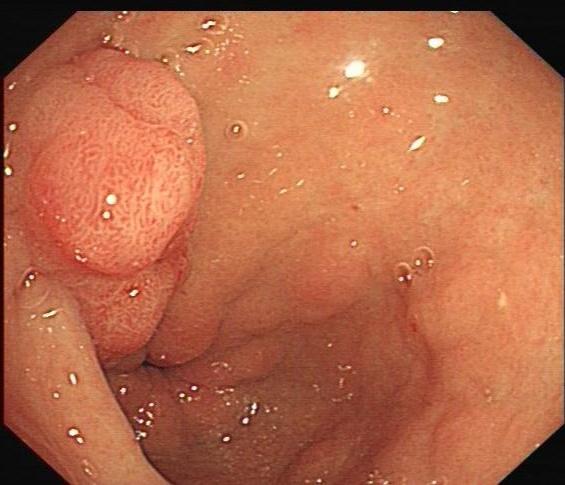Polyp: (26, 46, 207, 278)
